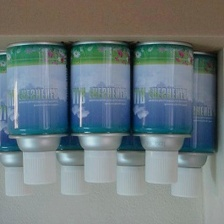aerosol_cans: (97, 47, 168, 204), (62, 37, 135, 186), (153, 47, 222, 204), (126, 36, 197, 188), (4, 36, 72, 187), (0, 45, 55, 205), (49, 47, 103, 203)
